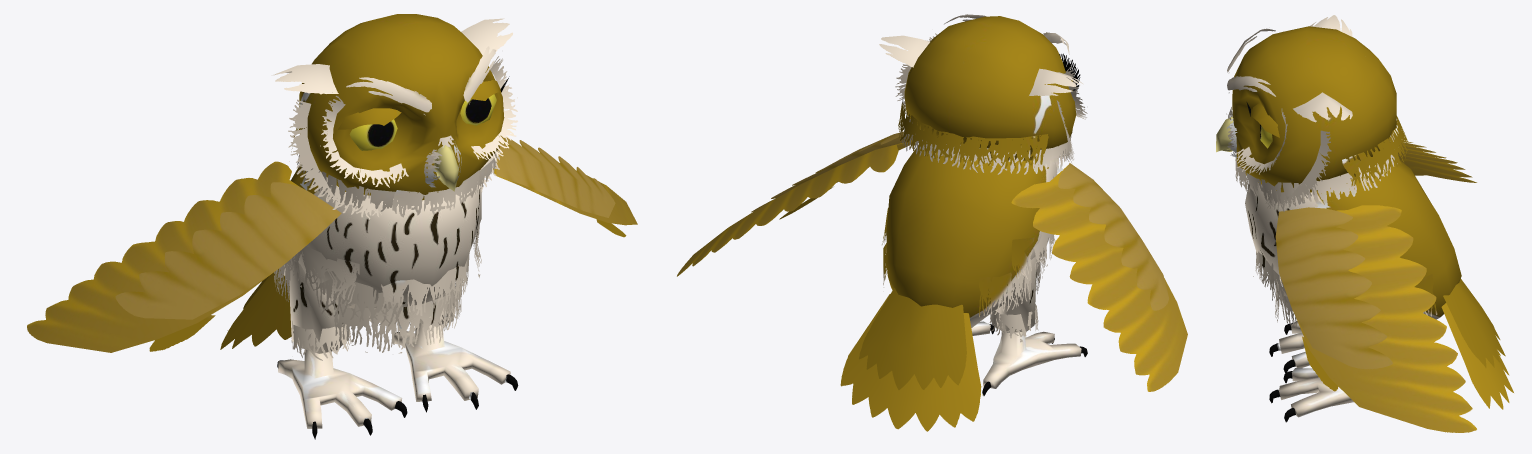
File: owl.fbx
3 renders of one model, left to right at view 1: azimuth 30°, elevation 25°; view 2: azimuth 150°, elevation 25°; view 3: azimuth 270°, elevation 25°, orthographic. The views are drawn at different scales.
Visible parts, largest first — view 1: Owlhead1, OwlTopwingfeathers, OwlLowerwingfeathers, Owlbody, Owlfeet, Owlheadfur, Owlbodyfeathers3, OwlLowertailfeathers, Owllegs, Owlears, Owlbodyfeathers, Owlbodyfeathers2 (+11 smaller); view 2: Owlbody, Owlhead1, OwlLowerwingfeathers, OwlToptailfeathers, OwlLowertailfeathers, OwlTopwingfeathers, Owlheadfeathers4, Owlfeet, Owlears, Owlbodyfeathers1, Owllegs, Owlbodyfeathers (+4 smaller); view 3: OwlLowerwingfeathers, Owlhead1, OwlTopwingfeathers, Owlbody, Owlfeet, OwlToptailfeathers, OwlLowertailfeathers, Owlheadfur, Owlheadfeathers4, Owlheadfeathers2, Owlears, Owlfeetclaws (+7 smaller).
Boxes of the visible parts, <box> form: Owlhead1: <box>299,14,504,200</box>; OwlTopwingfeathers: <box>115,136,615,319</box>; OwlLowerwingfeathers: <box>27,161,637,352</box>; Owlbody: <box>283,165,481,322</box>; Owlfeet: <box>278,323,510,428</box>; Owlheadfur: <box>288,56,517,219</box>; Owlbodyfeathers3: <box>334,279,461,353</box>; OwlLowertailfeathers: <box>220,269,291,349</box>; Owllegs: <box>287,259,455,353</box>; Owlears: <box>271,18,512,94</box>; Owlbodyfeathers: <box>284,224,481,308</box>; Owlbodyfeathers2: <box>316,253,469,328</box>; Owlbody: <box>886,145,1057,327</box>; Owlhead1: <box>904,16,1076,160</box>; OwlLowerwingfeathers: <box>677,140,1187,391</box>; OwlToptailfeathers: <box>859,288,966,389</box>; OwlLowertailfeathers: <box>840,294,982,431</box>; OwlTopwingfeathers: <box>751,131,1168,310</box>; Owlheadfeathers4: <box>898,99,1048,169</box>; Owlfeet: <box>971,321,1081,388</box>; Owlears: <box>879,35,1083,95</box>; Owlbodyfeathers1: <box>883,243,1031,317</box>; Owllegs: <box>995,256,1036,332</box>; Owlbodyfeathers: <box>882,208,1055,286</box>; OwlLowerwingfeathers: <box>1295,139,1476,432</box>; Owlhead1: <box>1232,26,1396,192</box>; OwlTopwingfeathers: <box>1275,207,1392,369</box>; Owlbody: <box>1245,148,1461,319</box>; Owlfeet: <box>1279,321,1353,417</box>; OwlToptailfeathers: <box>1443,278,1505,367</box>; OwlLowertailfeathers: <box>1441,303,1513,409</box>; Owlheadfur: <box>1235,108,1331,211</box>; Owlheadfeathers4: <box>1342,116,1408,186</box>; Owlheadfeathers2: <box>1246,173,1356,208</box>; Owlears: <box>1293,15,1352,122</box>; Owlfeetclaws: <box>1269,323,1295,422</box>.
Bounding box in the file's own units: 20 × 13.38 × 10.07.
1 material, 1 textured.
